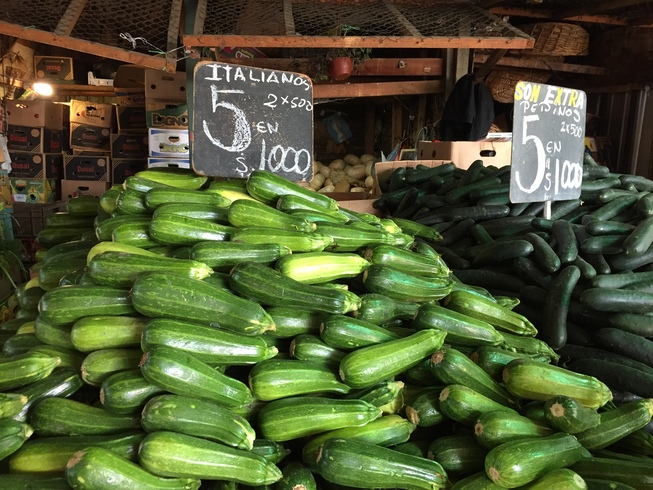precio: (184, 54, 328, 195), (505, 77, 589, 208)
